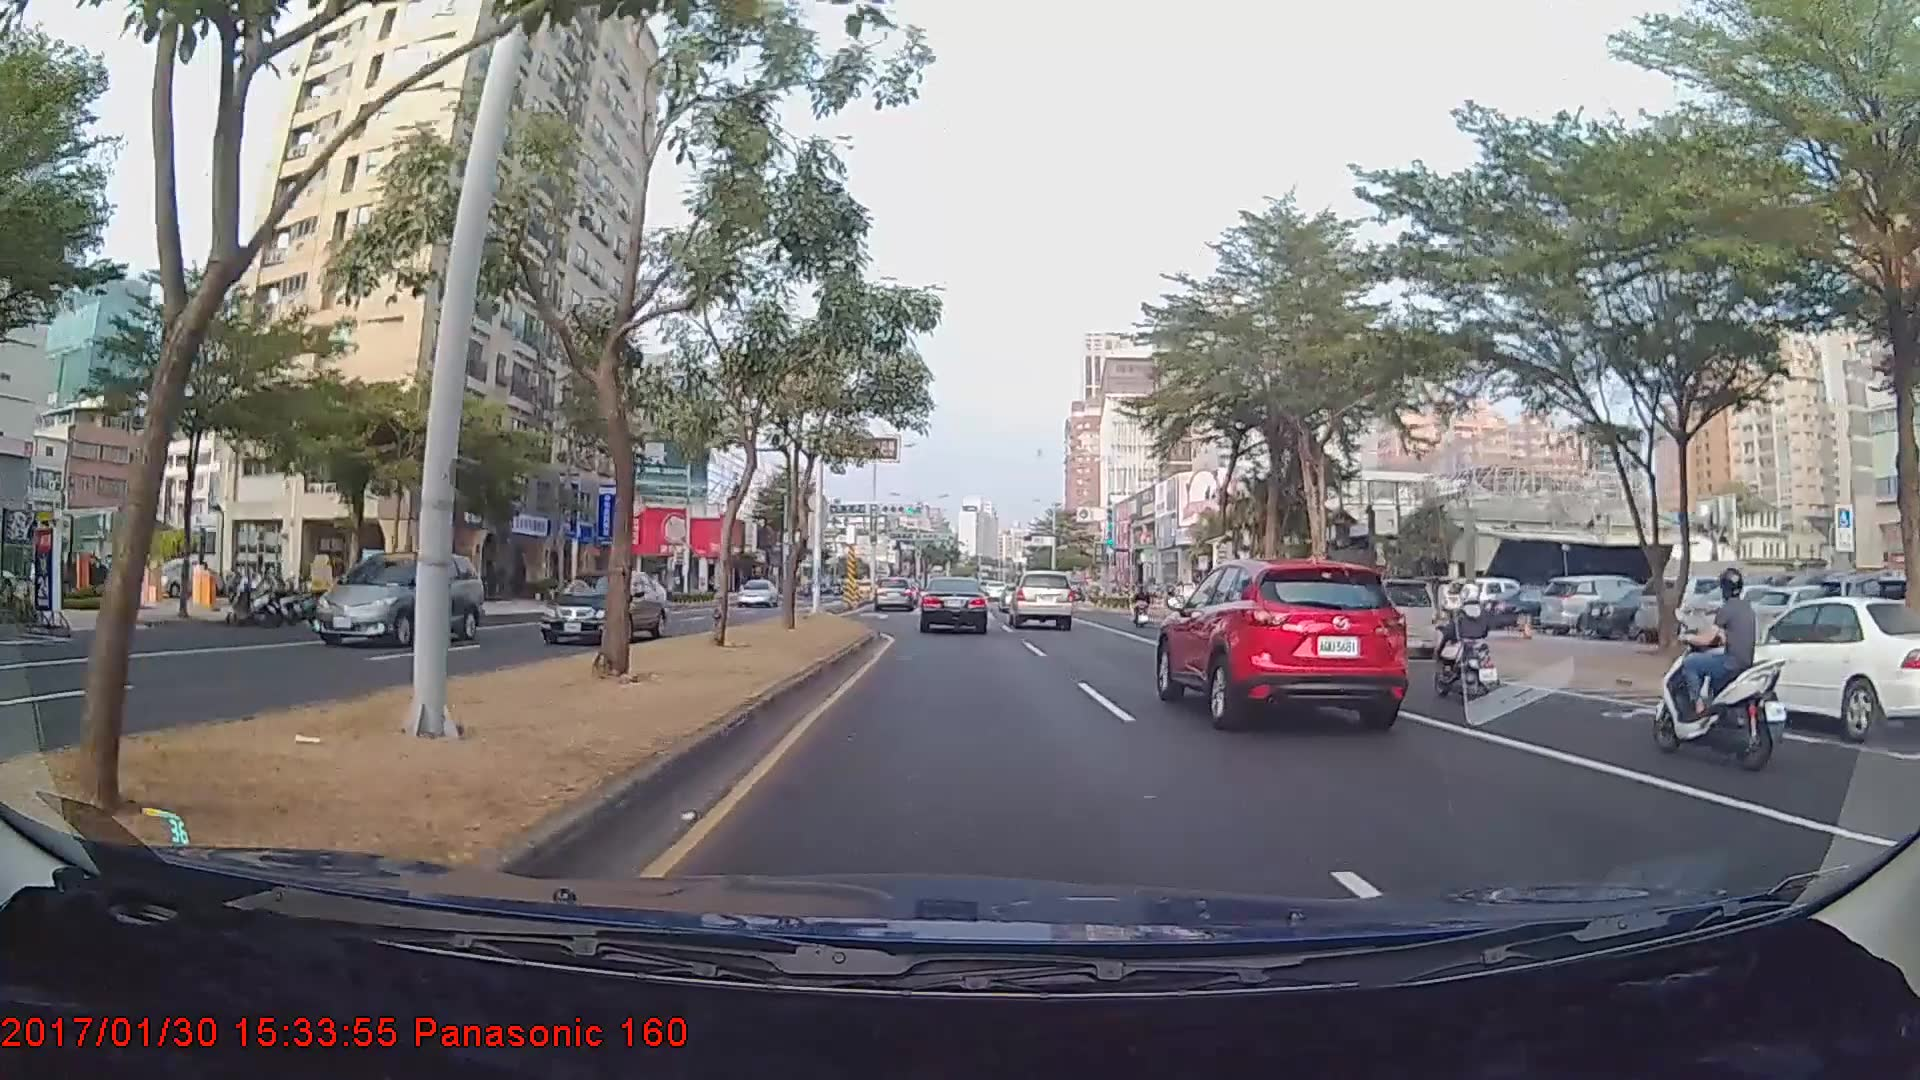rider: (1642, 555, 1794, 769), (1419, 575, 1510, 704), (1131, 579, 1158, 627)
vehicle: (1152, 552, 1407, 730), (1677, 595, 1920, 742), (311, 549, 483, 644), (536, 568, 667, 644), (1335, 577, 1437, 660), (1535, 572, 1659, 636), (919, 575, 989, 634), (1009, 569, 1073, 630), (873, 573, 918, 613), (736, 575, 777, 606)
